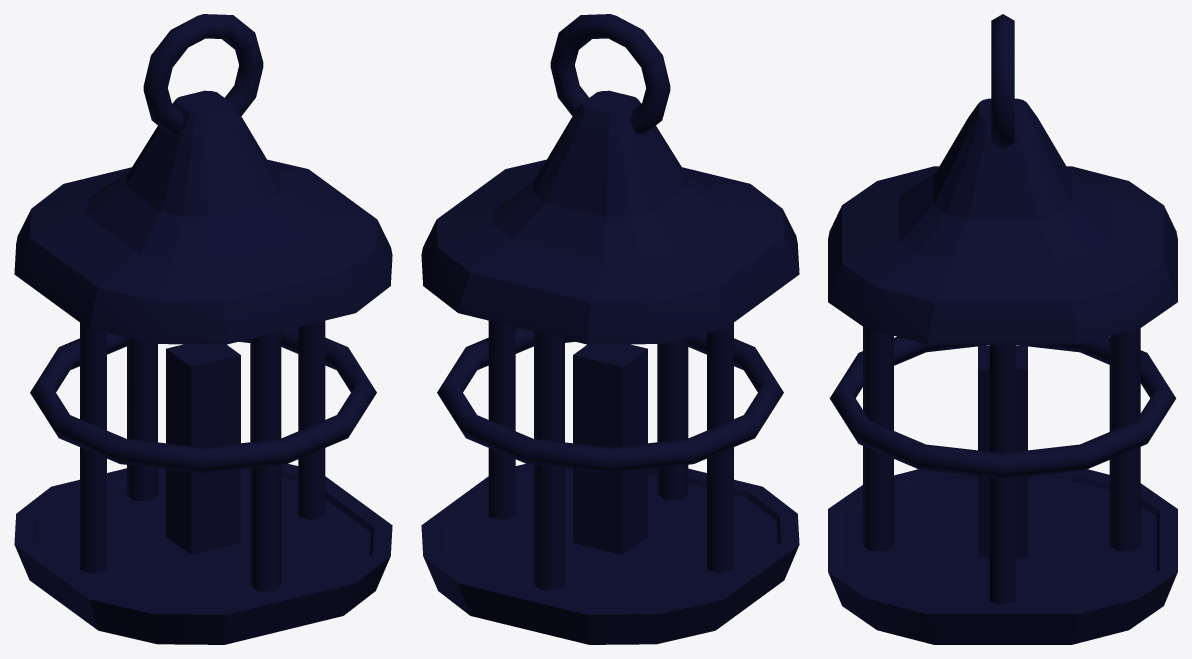
File: SM_lantern.fbx
The picture shows the model from 3 angles, left to right: view 1: azimuth 30°, elevation 25°; view 2: azimuth 150°, elevation 25°; view 3: azimuth 270°, elevation 25°; orthographic projection.
Parts seen in each view (by area): view 1: lantern; view 2: lantern; view 3: lantern.
Part boxes in pixels (x1=…): lantern: x1=14, y1=14, x2=392, y2=644; lantern: x1=421, y1=14, x2=799, y2=644; lantern: x1=828, y1=14, x2=1177, y2=644.
Bounding box in the file's own units: 38.83 × 68.19 × 38.83.
